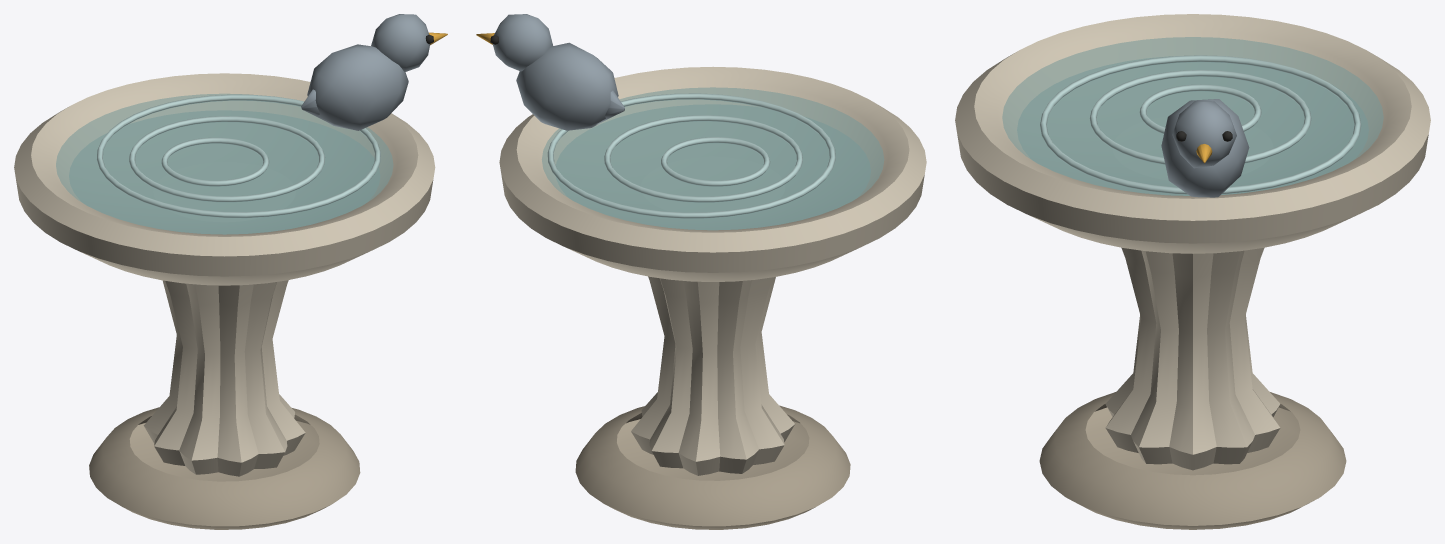
Rendered from birdbath_fountain.glb.
3 renders of one model, left to right at view 1: azimuth 30°, elevation 25°; view 2: azimuth 150°, elevation 25°; view 3: azimuth 270°, elevation 25°, orthographic. The views are drawn at different scales.
Parts seen in each view (by area): view 1: birdbath_fountain; view 2: birdbath_fountain; view 3: birdbath_fountain.
Boxes of the visible parts, bbox=[...] form: birdbath_fountain: bbox=[14, 14, 447, 529]; birdbath_fountain: bbox=[476, 14, 926, 529]; birdbath_fountain: bbox=[955, 14, 1430, 529].
Bounding box in the file's own units: 0.6975 × 0.6755 × 0.62.
